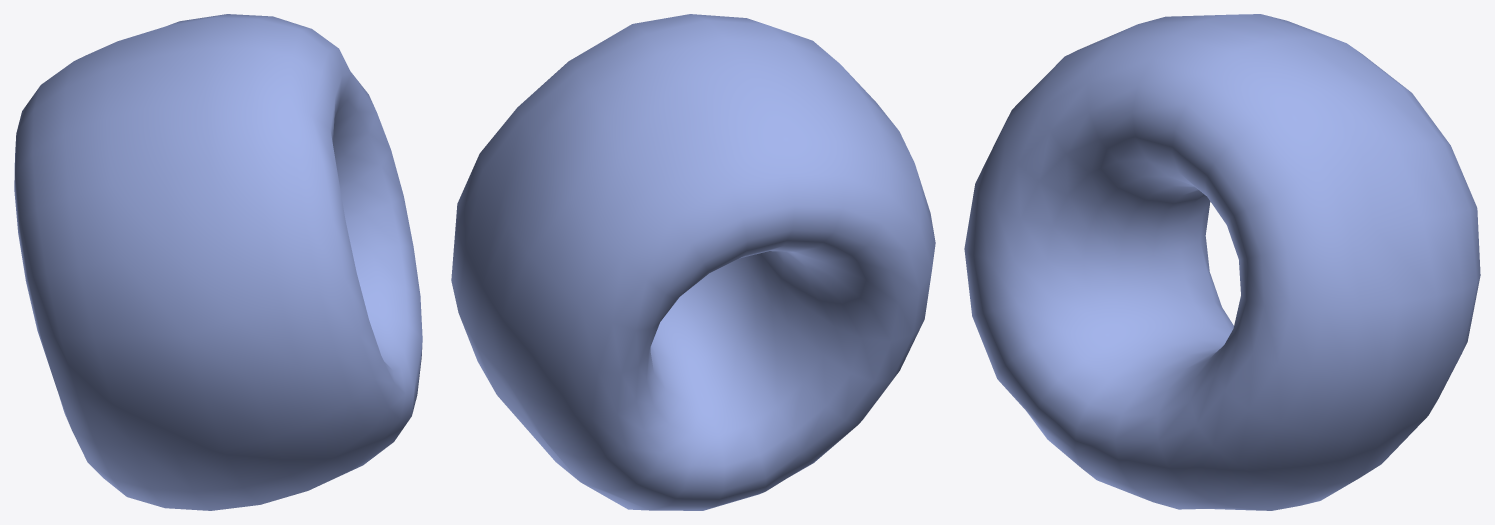
File: LoopFruit_Planet.fbx
3 views of the same model, side by side, from view 1: azimuth 30°, elevation 25°; view 2: azimuth 150°, elevation 25°; view 3: azimuth 270°, elevation 25° (orthographic). The views are drawn at different scales.
Visible parts, largest first — view 1: LoopFruit_Planet; view 2: LoopFruit_Planet; view 3: LoopFruit_Planet.
Part boxes in pixels (x1=…): LoopFruit_Planet: x1=14, y1=14, x2=422, y2=510; LoopFruit_Planet: x1=451, y1=14, x2=935, y2=510; LoopFruit_Planet: x1=964, y1=14, x2=1480, y2=510.
Bounding box in the file's own units: 18.82 × 20.03 × 20.11.
